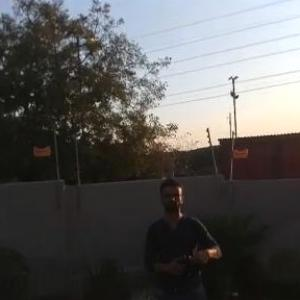follow: (142, 161, 229, 299)
